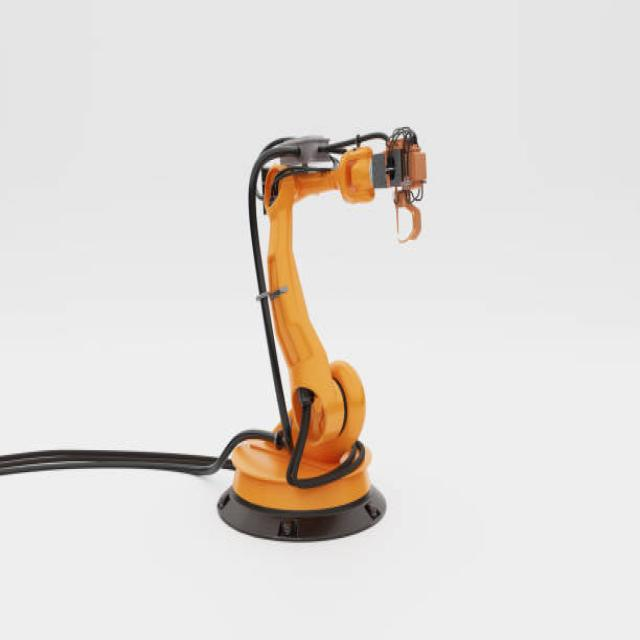Robotic-arm: (212, 113, 435, 558)
